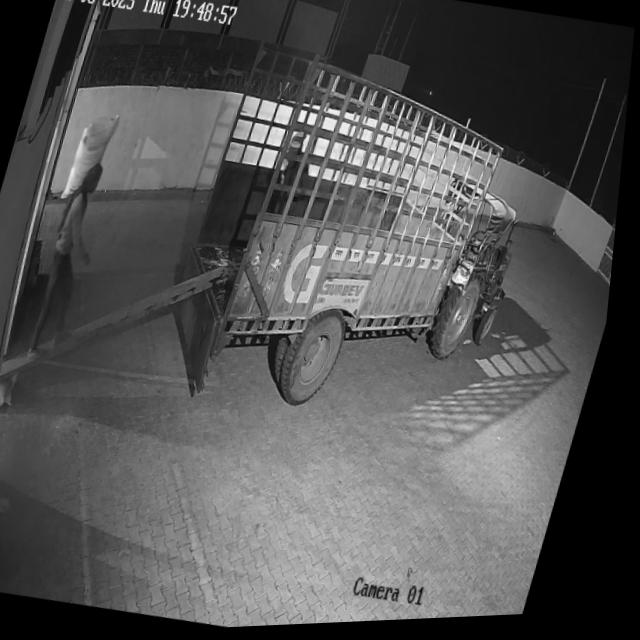sack: (63, 109, 125, 210)
